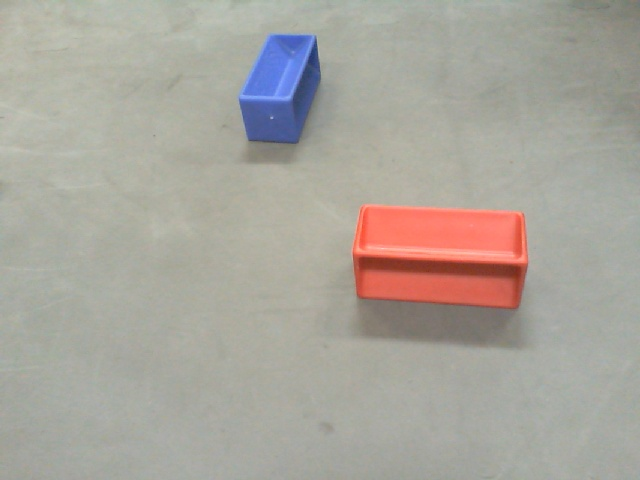BlueSample: (236, 32, 322, 146)
RedSample: (349, 202, 532, 310)
